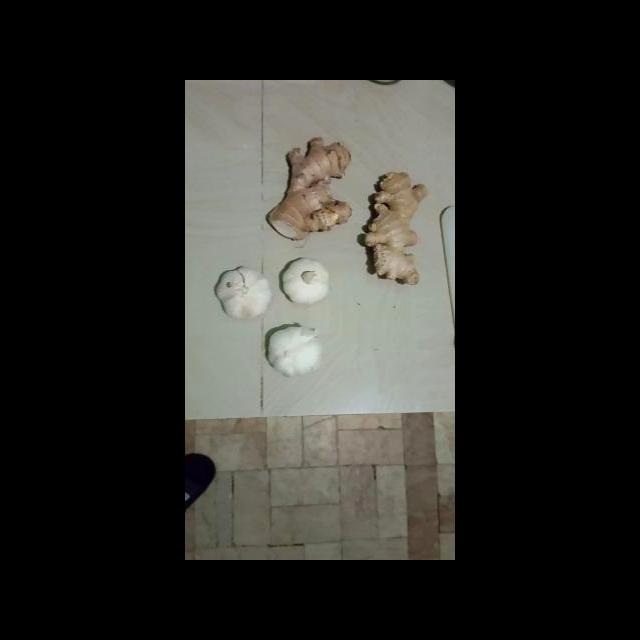garlic: (214, 266, 275, 319), (265, 324, 323, 379), (277, 257, 332, 305)
ginger: (265, 137, 353, 245), (363, 168, 426, 288)
